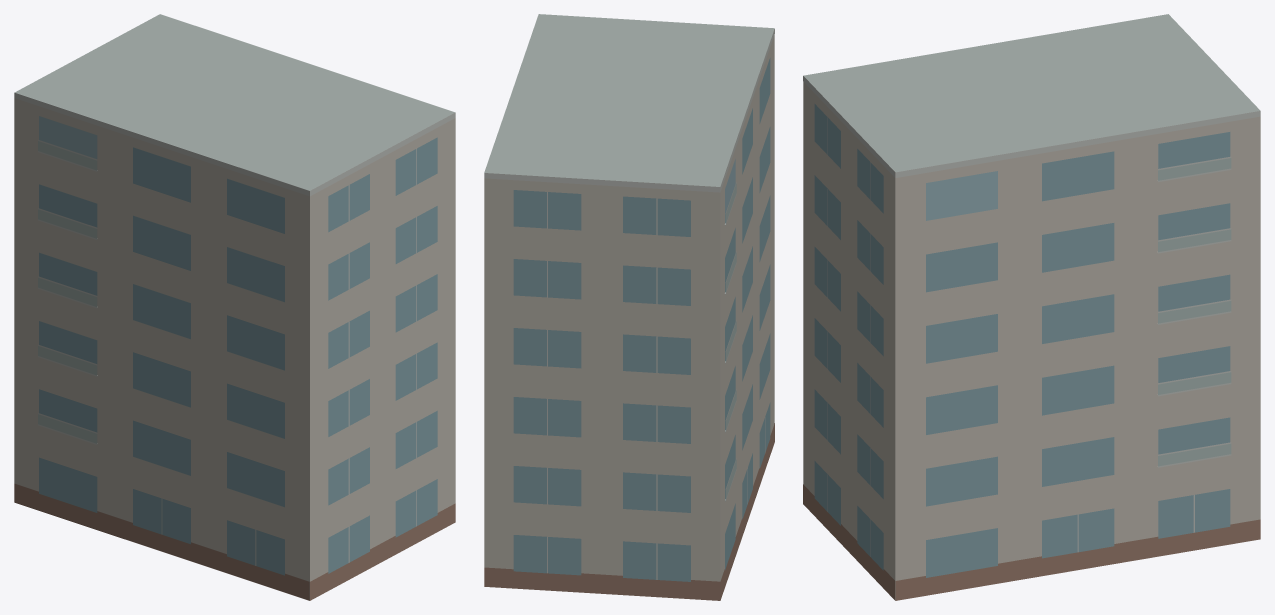
Rendered from survey-upis-32582847.glb.
3 renders of one model, left to right at view 1: azimuth 30°, elevation 25°; view 2: azimuth 150°, elevation 25°; view 3: azimuth 270°, elevation 25°, orthographic. The views are drawn at different scales.
Parts seen in each view (by area): view 1: survey-upis-32582847.tmp; view 2: survey-upis-32582847.tmp; view 3: survey-upis-32582847.tmp.
Boxes of the visible parts, x1=… form: survey-upis-32582847.tmp: x1=14, y1=14, x2=455, y2=600; survey-upis-32582847.tmp: x1=484, y1=14, x2=774, y2=600; survey-upis-32582847.tmp: x1=803, y1=14, x2=1260, y2=600.
Size of the model in its own units: 14.52 by 18.3 by 17.72.
